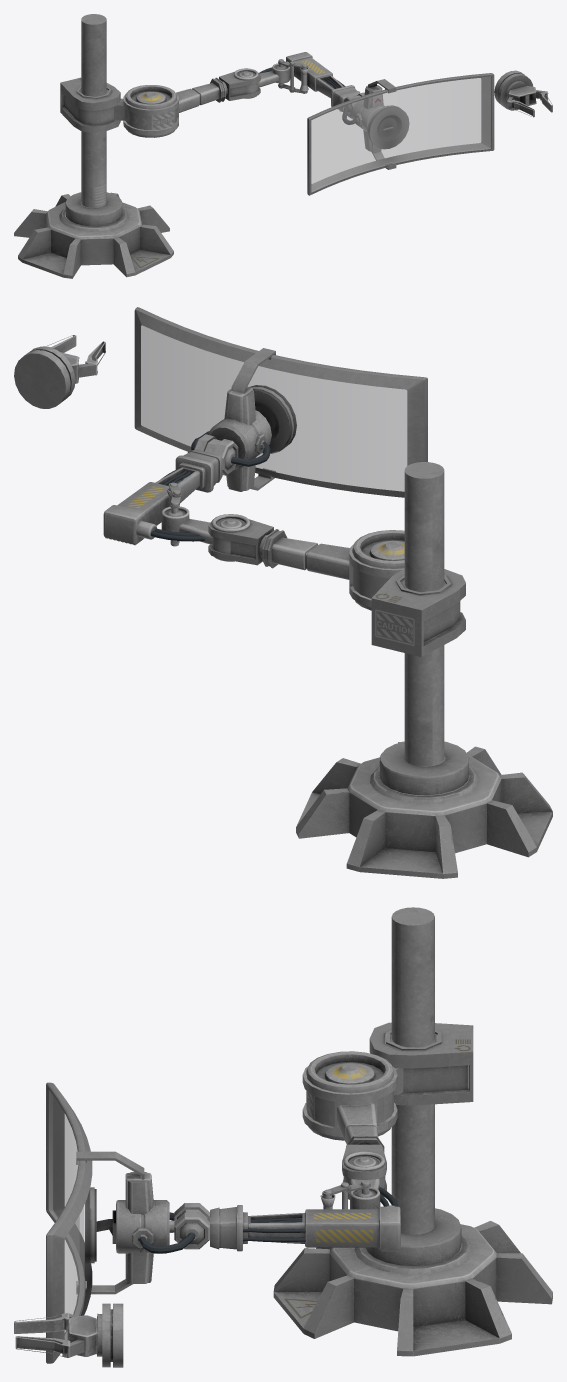
Rendered from Mechanical arm 2.FBX.
3 views of the same model, one above another, from view 1: azimuth 30°, elevation 25°; view 2: azimuth 150°, elevation 25°; view 3: azimuth 270°, elevation 25° (orthographic). The views are drawn at different scales.
Visible parts, largest first — view 1: Base, TV 32 inch007, TV 32 inch009, Box355, Cylinder094, Point003, Point001, Claw (×2), Point006, Box356, Point008, Cylinder097 (+1 smaller); view 2: Base, TV 32 inch007, TV 32 inch009, Box355, Point003, Point001, Point006, Claw, Cylinder094, Box356, Point008, Box361 (+1 smaller); view 3: Base, TV 32 inch009, Point003, Box355, TV 32 inch007, Cylinder094, Claw (×4), Point006, Point001, Point008, Box361, Box356 (+2 smaller).
Boxes of the visible parts, left/top/right/bottom form: Base: left=14, top=14, right=173, bottom=278; TV 32 inch007: left=311, top=76, right=491, bottom=192; TV 32 inch009: left=307, top=73, right=494, bottom=195; Box355: left=60, top=77, right=120, bottom=132; Cylinder094: left=114, top=85, right=176, bottom=137; Point003: left=259, top=52, right=359, bottom=111; Point001: left=123, top=83, right=219, bottom=135; Claw (×2): left=494, top=70, right=536, bottom=110; Point006: left=342, top=92, right=384, bottom=131; Box356: left=219, top=71, right=260, bottom=100; Point008: left=363, top=85, right=383, bottom=152; Cylinder097: left=234, top=68, right=258, bottom=98; Base: left=296, top=462, right=552, bottom=878; TV 32 inch007: left=141, top=325, right=407, bottom=491; TV 32 inch009: left=134, top=307, right=427, bottom=497; Box355: left=371, top=569, right=465, bottom=656; Point003: left=103, top=449, right=222, bottom=546; Point001: left=272, top=537, right=404, bottom=607; Point006: left=191, top=410, right=271, bottom=475; Claw: left=14, top=346, right=75, bottom=408; Cylinder094: left=352, top=530, right=404, bottom=610; Box356: left=208, top=518, right=273, bottom=565; Point008: left=224, top=386, right=256, bottom=491; Box361: left=231, top=348, right=275, bottom=490; Base: left=273, top=907, right=552, bottom=1356; TV 32 inch009: left=46, top=1082, right=115, bottom=1363; Point003: left=210, top=1180, right=400, bottom=1251; Box355: left=369, top=1022, right=473, bottom=1105; TV 32 inch007: left=48, top=1089, right=84, bottom=1340; Cylinder094: left=306, top=1051, right=403, bottom=1140; Claw (×4): left=14, top=1303, right=123, bottom=1367; Point006: left=116, top=1200, right=209, bottom=1253; Point001: left=302, top=1066, right=397, bottom=1144; Point008: left=125, top=1172, right=153, bottom=1283; Box361: left=76, top=1151, right=144, bottom=1294; Box356: left=342, top=1144, right=386, bottom=1199.
Size of the model in its own units: 3.98 by 2.6 by 2.03.
